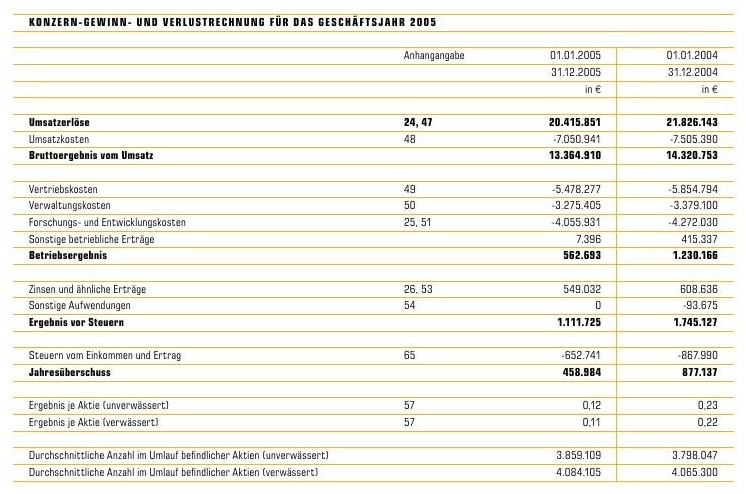table: (0, 0, 746, 494)
